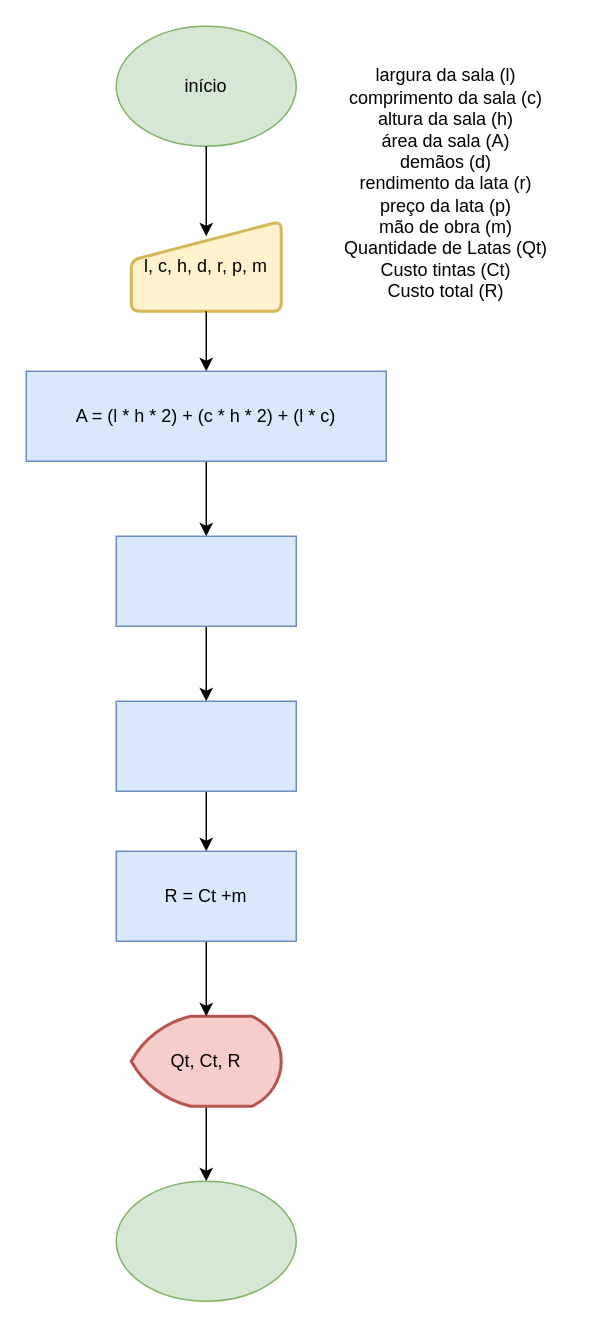
The diagram is 593 pixels wide and 1328 high, and some of its shapes have lost their labels. Each missing label, with the centre of its shape:
"Ct = p * Qt" belongs at (x=205, y=745).
"fim" belongs at (x=205, y=1240).
"Qt = A / r * d" belongs at (x=205, y=580).
